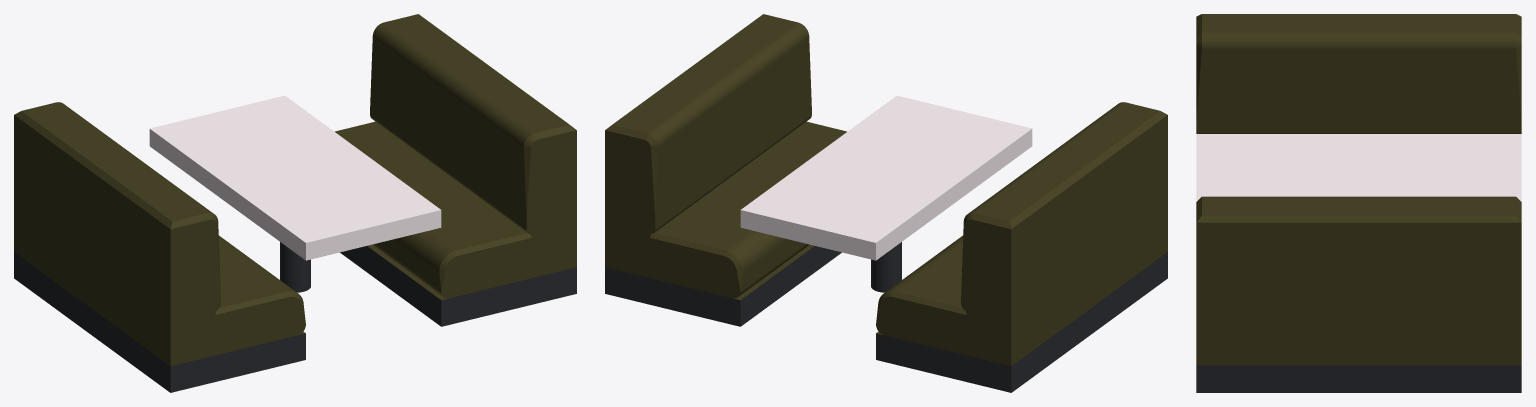
The model's file is Booth Table.fbx.
3 views of the same model, side by side, from view 1: azimuth 30°, elevation 25°; view 2: azimuth 150°, elevation 25°; view 3: azimuth 270°, elevation 25° (orthographic). The views are drawn at different scales.
Parts seen in each view (by area): view 1: Booth.003; view 2: Booth.003; view 3: Booth.003.
Boxes of the visible parts, x1,y1,x2,y2 form: Booth.003: (14,14,576,392); Booth.003: (605,14,1167,392); Booth.003: (1196,14,1521,392).
Bounding box in the file's own units: 200 × 300 × 119.
